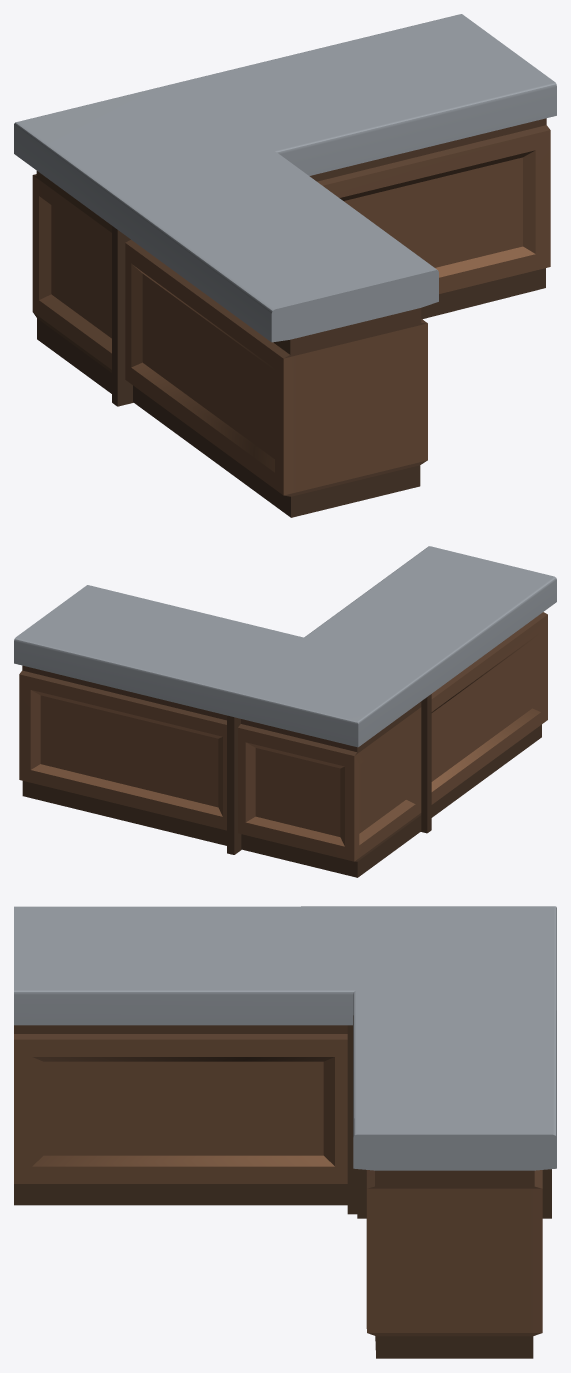
File: Counter_corner.fbx
The picture shows the model from 3 angles, top to bottom: view 1: azimuth 30°, elevation 25°; view 2: azimuth 150°, elevation 25°; view 3: azimuth 270°, elevation 25°; orthographic projection. The views are drawn at different scales.
Parts seen in each view (by area): view 1: Kitchen_Counter_Corner; view 2: Kitchen_Counter_Corner; view 3: Kitchen_Counter_Corner.
Boxes of the visible parts, x1,y1,x2,y2 form: Kitchen_Counter_Corner: (14, 14, 556, 517); Kitchen_Counter_Corner: (14, 546, 556, 877); Kitchen_Counter_Corner: (14, 906, 556, 1358).
Bounding box in the file's own units: 200 × 91.37 × 200.
